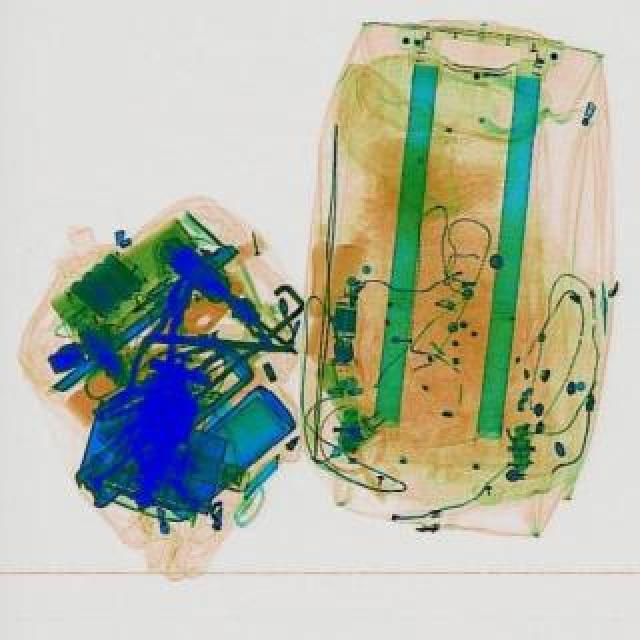wrench: (120, 274, 202, 406)
